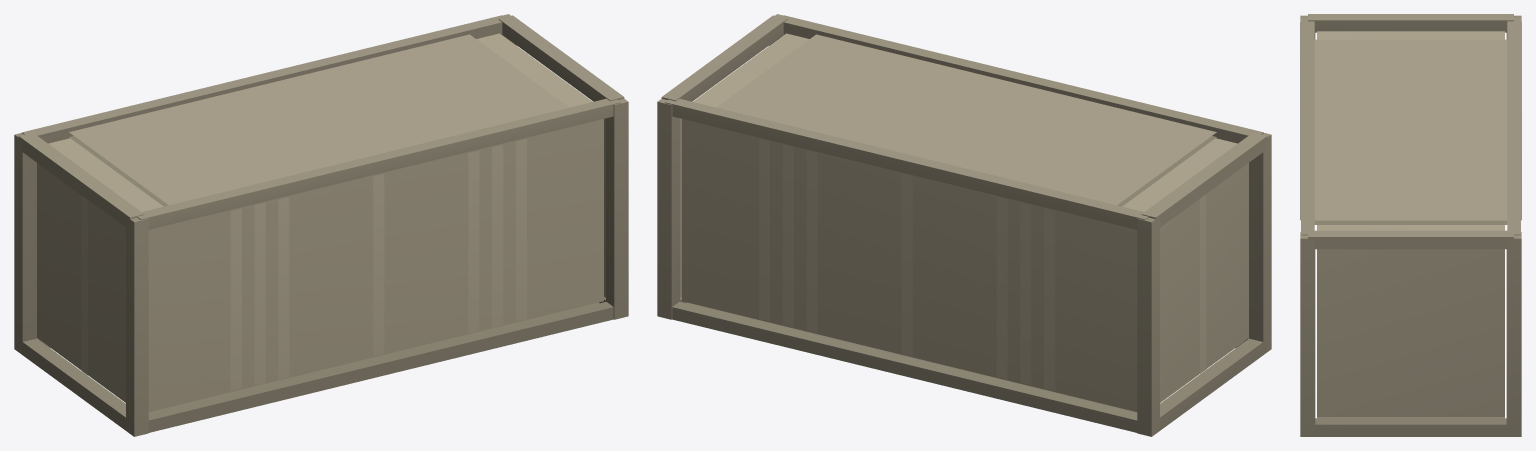
The model's file is mil_container_sand.lod.glb.
3 renders of one model, left to right at view 1: azimuth 30°, elevation 25°; view 2: azimuth 150°, elevation 25°; view 3: azimuth 270°, elevation 25°, orthographic. The views are drawn at different scales.
Parts seen in each view (by area): view 1: mil_container_sand; view 2: mil_container_sand; view 3: mil_container_sand.
Boxes of the visible parts, box(x1,y1,x2,y2) form: mil_container_sand: box(14, 14, 628, 436); mil_container_sand: box(657, 14, 1271, 436); mil_container_sand: box(1300, 14, 1521, 436).
Bounding box in the file's own units: 6.24 × 2.61 × 2.62.
